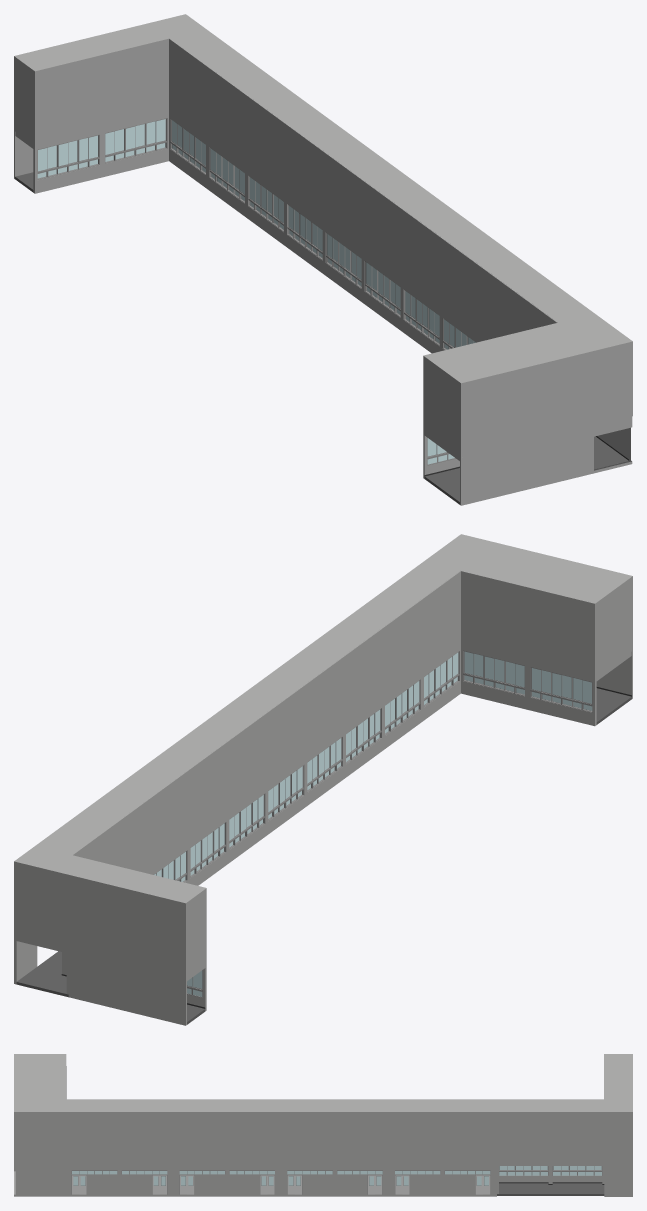
3 renders of one model, top to bottom at view 1: azimuth 30°, elevation 25°; view 2: azimuth 150°, elevation 25°; view 3: azimuth 270°, elevation 25°, orthographic. The views are drawn at different scales.
Visible parts, largest first — view 1: hallway_79, hallway_68, hallway_74, hallway_61, hallway_224, hallway_226; view 2: hallway_68, hallway_79, hallway_61, hallway_74, hallway_228, hallway_230; view 3: hallway_68, hallway_74, hallway_61, hallway_76, hallway_79, hallway_273, hallway_263, hallway_283, hallway_293, hallway_204, hallway_206.
Boxes of the visible parts, bbox=[...] form: hallway_79: bbox=[34, 38, 557, 477]; hallway_68: bbox=[14, 14, 632, 457]; hallway_74: bbox=[460, 416, 632, 505]; hallway_61: bbox=[15, 172, 629, 504]; hallway_224: bbox=[105, 118, 166, 163]; hallway_226: bbox=[37, 134, 99, 179]; hallway_68: bbox=[14, 534, 632, 1025]; hallway_79: bbox=[72, 571, 595, 1010]; hallway_61: bbox=[16, 688, 631, 1024]; hallway_74: bbox=[596, 651, 632, 698]; hallway_228: bbox=[530, 667, 592, 712]; hallway_230: bbox=[463, 650, 524, 695]; hallway_68: bbox=[14, 1054, 632, 1196]; hallway_74: bbox=[14, 1164, 498, 1196]; hallway_61: bbox=[497, 1183, 604, 1195]; hallway_76: bbox=[499, 1166, 604, 1183]; hallway_79: bbox=[66, 1054, 604, 1099]; hallway_273: bbox=[287, 1171, 382, 1174]; hallway_263: bbox=[395, 1171, 490, 1174]; hallway_283: bbox=[179, 1171, 274, 1174]; hallway_293: bbox=[72, 1171, 167, 1174]; hallway_204: bbox=[552, 1166, 602, 1175]; hallway_206: bbox=[499, 1166, 548, 1175].
Size of the model in its own units: 13.21 by 9 by 59.54.
